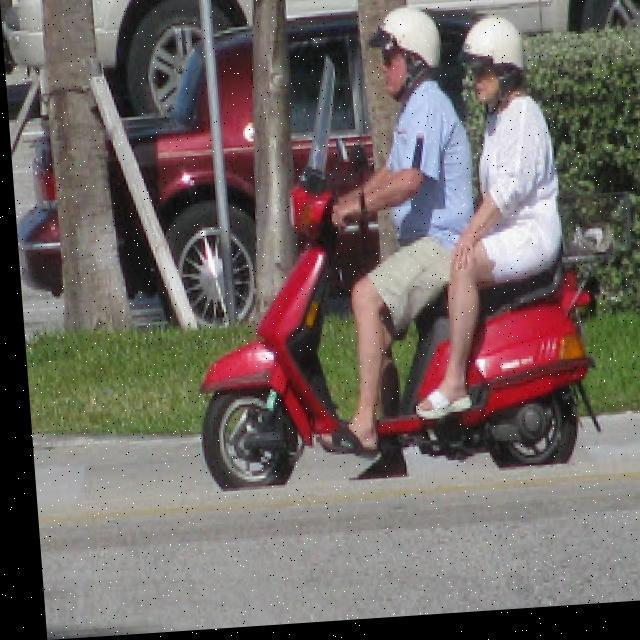Helmet: (360, 0, 446, 109)
